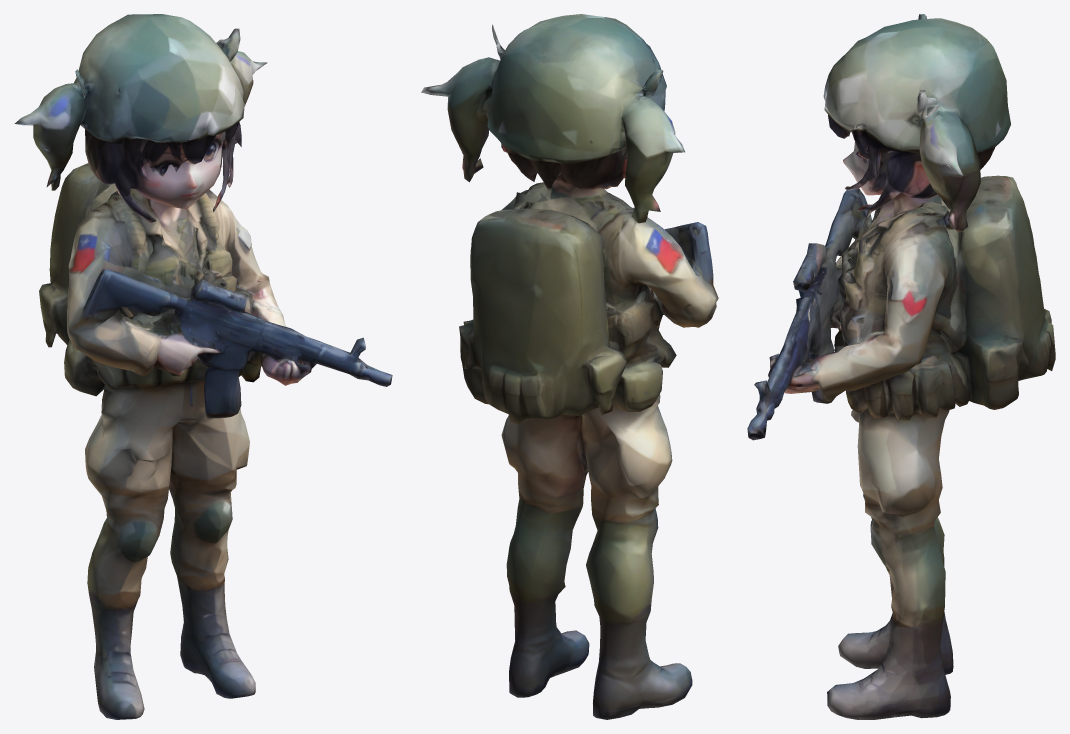
The model's file is soldier.glb.
3 renders of one model, left to right at view 1: azimuth 30°, elevation 25°; view 2: azimuth 150°, elevation 25°; view 3: azimuth 270°, elevation 25°, orthographic. The views are drawn at different scales.
Size of the model in its own units: 0.8829 by 2 by 0.8409.
1 material, 1 textured.
